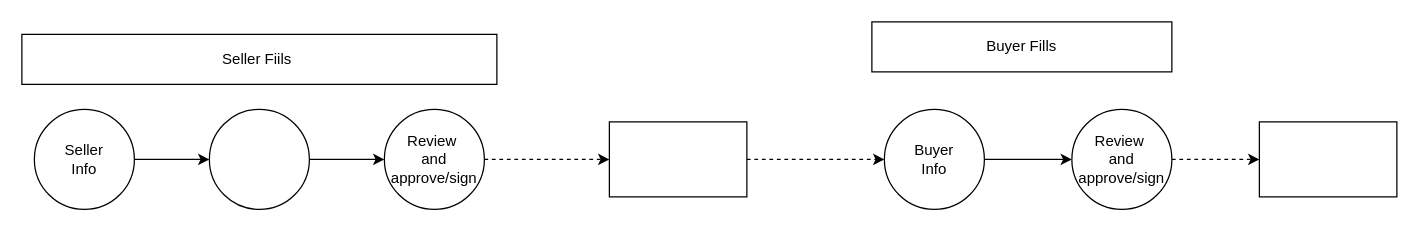
The diagram is 1419 pixels wide and 231 high, and some of its shapes have lost their labels. The centre of each missing label's shape, as x and y in pixels:
Send Email to both parties with document: point (1327, 159)
Send email with link: point (677, 159)
Vechicle info: point (258, 158)
